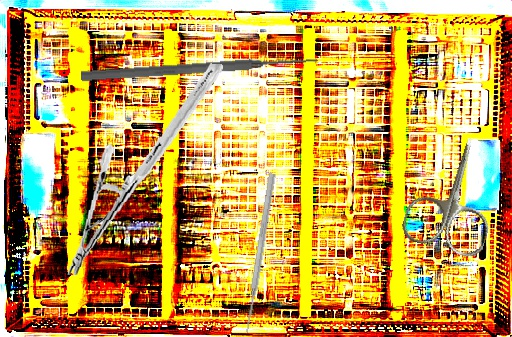Iris Scissors: (398, 126, 512, 261)
Needle Holder: (65, 50, 224, 289)
Pusher: (80, 52, 318, 85), (241, 172, 278, 334)
